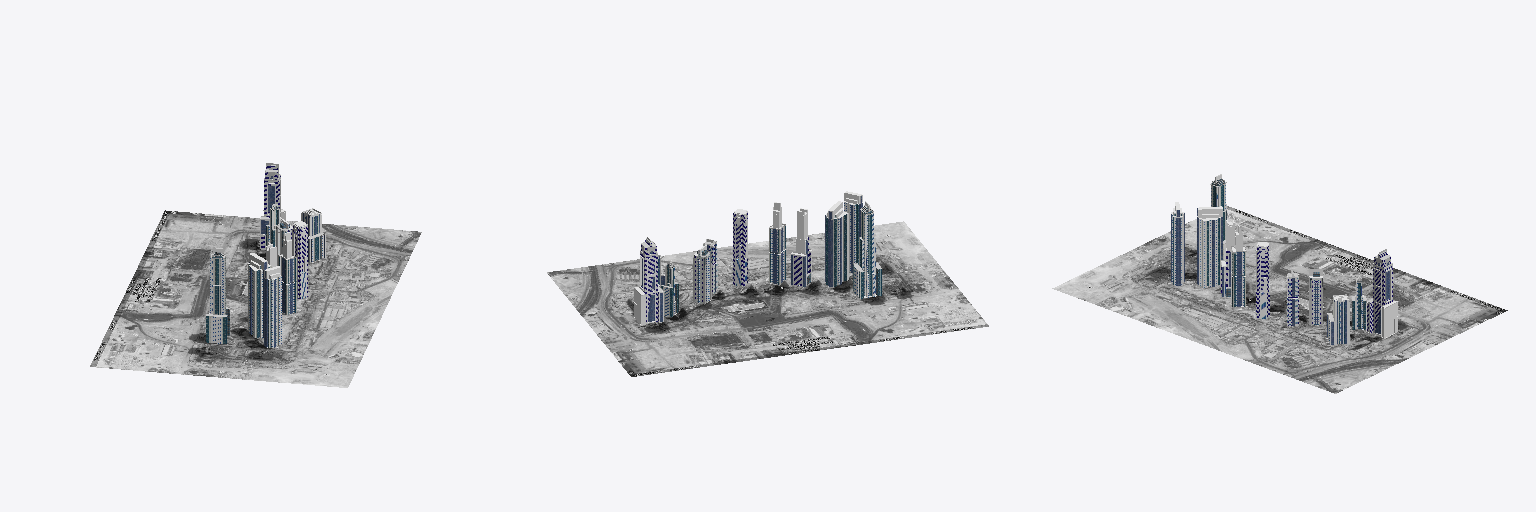
3 views of the same model, side by side, from view 1: azimuth 30°, elevation 25°; view 2: azimuth 150°, elevation 25°; view 3: azimuth 270°, elevation 25° (orthographic).
Visible parts, largest first — view 1: Mesh17 Google_Earth_Snapshot Model, Mesh3 Group3 Model, Mesh7 Group7 Model, Mesh6 Group6 Model, Mesh18 Model, Mesh14 Group13 Model, Mesh5 Group4 Model, Mesh8 Group8 Model; view 2: Mesh17 Google_Earth_Snapshot Model, Mesh18 Model, Mesh6 Group6 Model, Mesh3 Group3 Model, Mesh16 Group14 Model, Mesh14 Group13 Model, Mesh13 Group12 Model, Mesh5 Group4 Model, Mesh7 Group7 Model; view 3: Mesh17 Google_Earth_Snapshot Model, Mesh18 Model, Mesh6 Group6 Model, Mesh7 Group7 Model, Mesh14 Group13 Model, Mesh8 Group8 Model, Mesh5 Group4 Model, Mesh13 Group12 Model, Mesh16 Group14 Model, Mesh3 Group3 Model.
Boxes of the visible parts, x1,y1,x2,y2 form: Mesh17 Google_Earth_Snapshot Model: [90, 210, 421, 387]; Mesh3 Group3 Model: [206, 248, 230, 343]; Mesh7 Group7 Model: [264, 266, 281, 347]; Mesh6 Group6 Model: [248, 253, 271, 337]; Mesh18 Model: [260, 163, 285, 249]; Mesh14 Group13 Model: [293, 221, 307, 299]; Mesh5 Group4 Model: [278, 254, 296, 314]; Mesh8 Group8 Model: [301, 208, 325, 262]; Mesh17 Google_Earth_Snapshot Model: [547, 221, 988, 376]; Mesh18 Model: [634, 237, 664, 325]; Mesh6 Group6 Model: [825, 201, 848, 286]; Mesh3 Group3 Model: [853, 201, 881, 298]; Mesh16 Group14 Model: [791, 208, 812, 286]; Mesh14 Group13 Model: [733, 209, 747, 286]; Mesh13 Group12 Model: [693, 245, 711, 304]; Mesh5 Group4 Model: [769, 223, 785, 284]; Mesh7 Group7 Model: [844, 191, 862, 272]; Mesh17 Google_Earth_Snapshot Model: [1052, 206, 1507, 393]; Mesh18 Model: [1366, 249, 1398, 338]; Mesh6 Group6 Model: [1197, 206, 1222, 287]; Mesh7 Group7 Model: [1171, 202, 1184, 285]; Mesh14 Group13 Model: [1256, 242, 1269, 318]; Mesh8 Group8 Model: [1327, 294, 1349, 344]; Mesh5 Group4 Model: [1231, 246, 1246, 306]; Mesh13 Group12 Model: [1309, 269, 1323, 324]; Mesh16 Group14 Model: [1221, 220, 1234, 296]; Mesh3 Group3 Model: [1210, 174, 1226, 259].
Size of the model in its own units: 95152 by 21980 by 96883.
Materials: 16 (9 with a texture image).